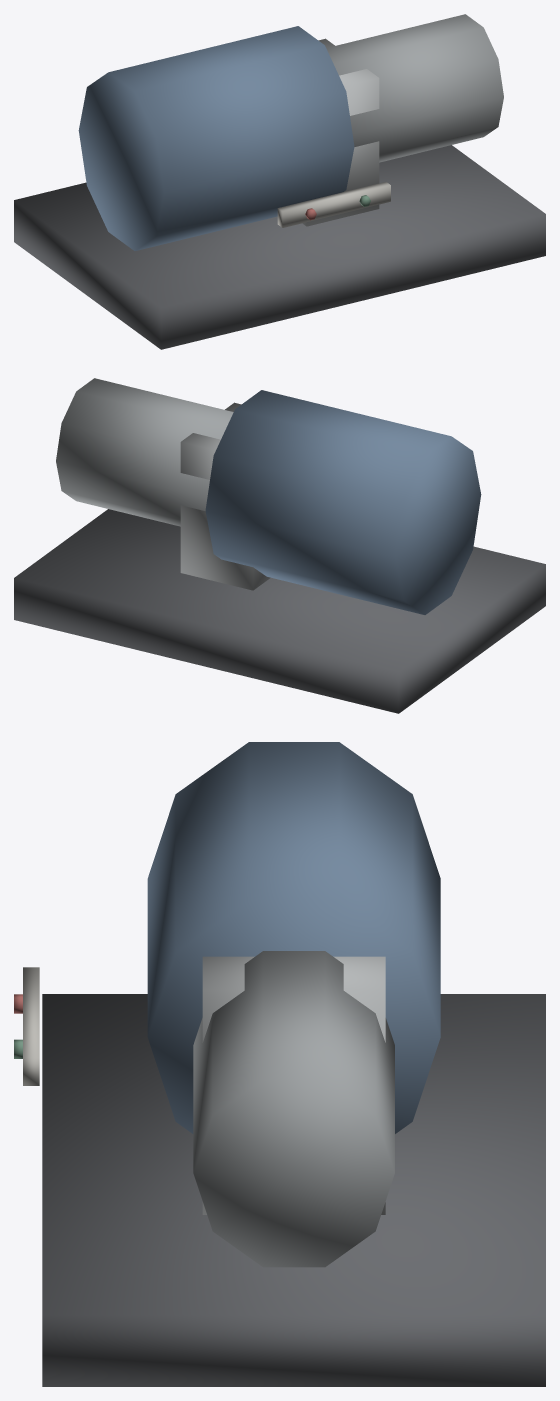
File: circulation_pump__compact.glb
3 views of the same model, one above another, from view 1: azimuth 30°, elevation 25°; view 2: azimuth 150°, elevation 25°; view 3: azimuth 270°, elevation 25° (orthographic). The views are drawn at different scales.
Visible parts, largest first — view 1: world; view 2: world; view 3: world.
Part boxes in pixels (bbox=[...]): world: bbox=[14, 14, 545, 349]; world: bbox=[14, 378, 545, 713]; world: bbox=[14, 742, 545, 1386].
Size of the model in its own units: 0.7182 by 0.3647 by 0.4997.
